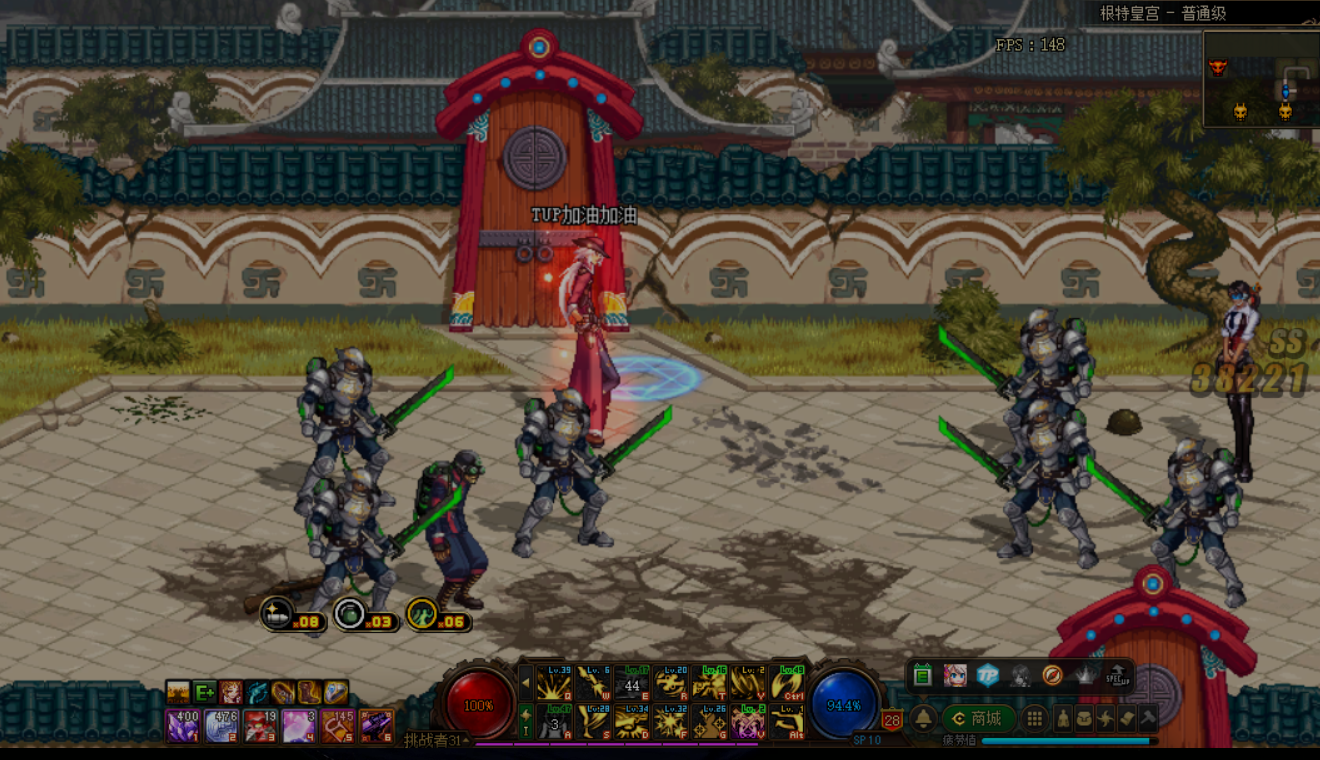monster: (490, 387, 678, 557), (1090, 426, 1255, 609), (952, 392, 1103, 576), (296, 341, 449, 507), (925, 284, 1097, 431), (308, 473, 456, 622), (1195, 263, 1274, 488), (408, 449, 498, 621)
warrior: (520, 232, 644, 446)
